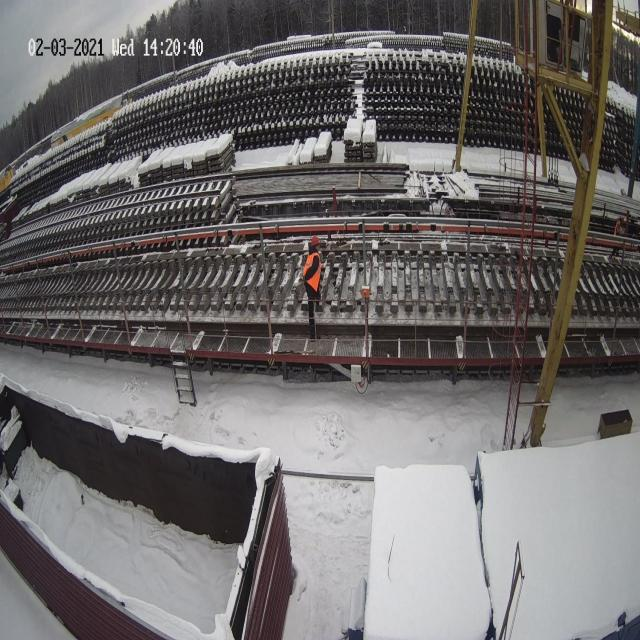Helmet: (311, 235, 320, 247)
Person: (302, 235, 322, 340), (610, 215, 623, 258)
